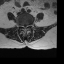CCS_severe_stenosis: (24, 24, 26, 30)
LFS_stenosis: (27, 23, 29, 27)
LLS_stenosis: (26, 24, 27, 29)
RFS_stenosis: (21, 23, 23, 28)
RLS_stenosis: (23, 24, 24, 29)
